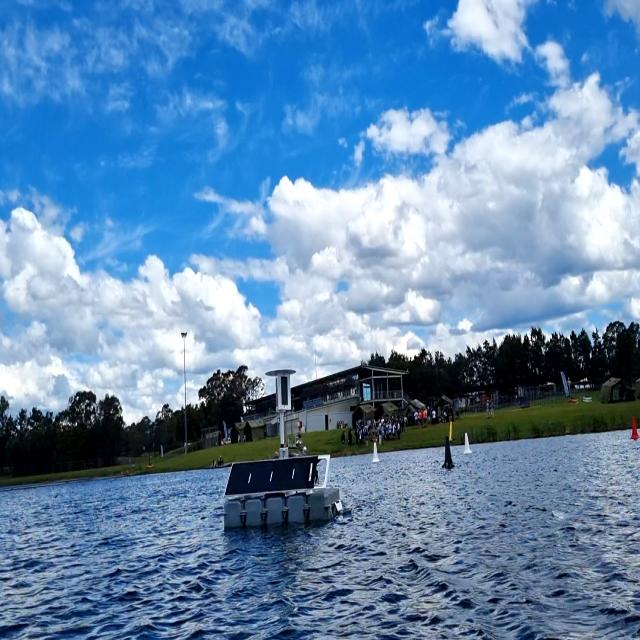led: (279, 374, 290, 408)
